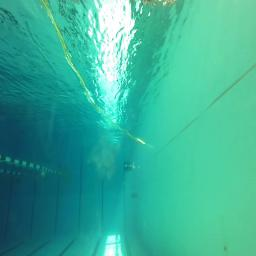Full: (124, 164, 133, 170), (131, 192, 138, 197)
